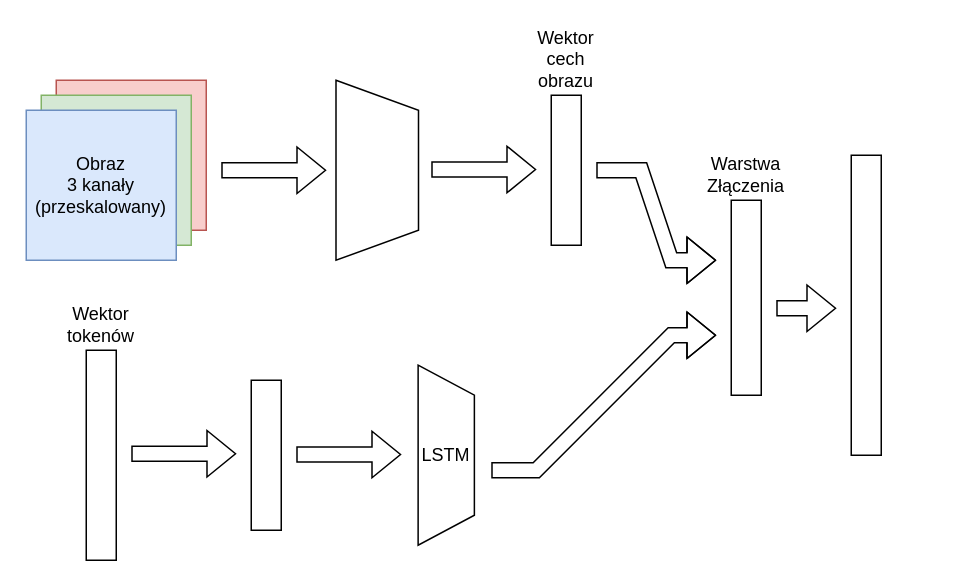
The diagram is 972 pixels wide and 587 high, and some of its shapes have lost their labels. The centre of each missing label's shape, as x and y in pixels:
"CNN" goes at (376,169).
"Przedstawienie wektorowe słowa" goes at (265,454).
"Wektor prawdopodobieństw słów" goes at (865,304).
